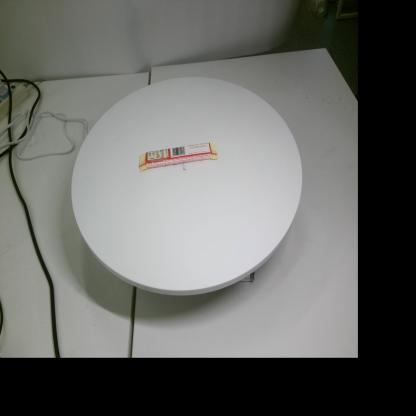Chocolate: (139, 142, 217, 172)
